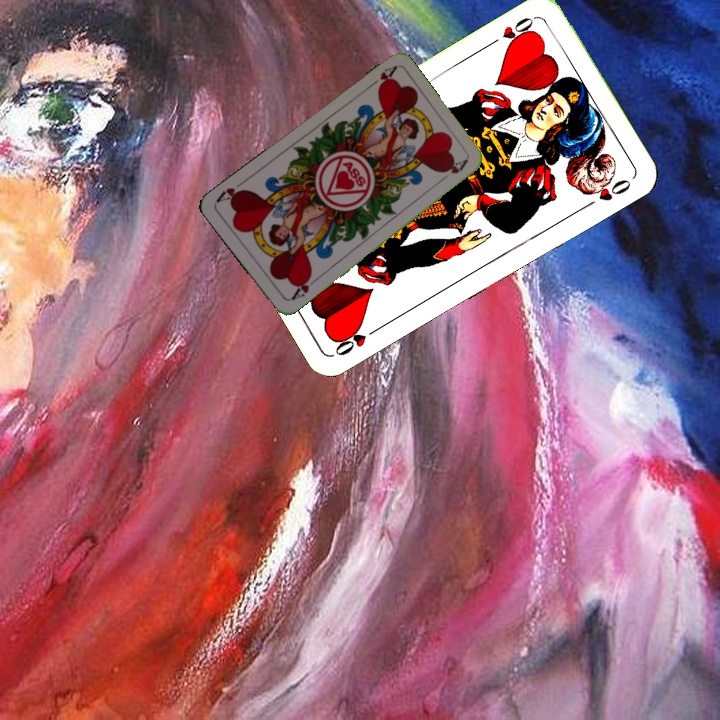HA: (287, 270, 321, 303), (363, 62, 399, 93)
HO: (484, 12, 538, 51), (330, 321, 385, 359)
